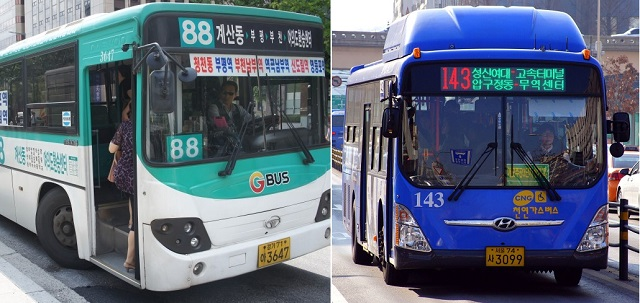bnum: (167, 134, 202, 162)
